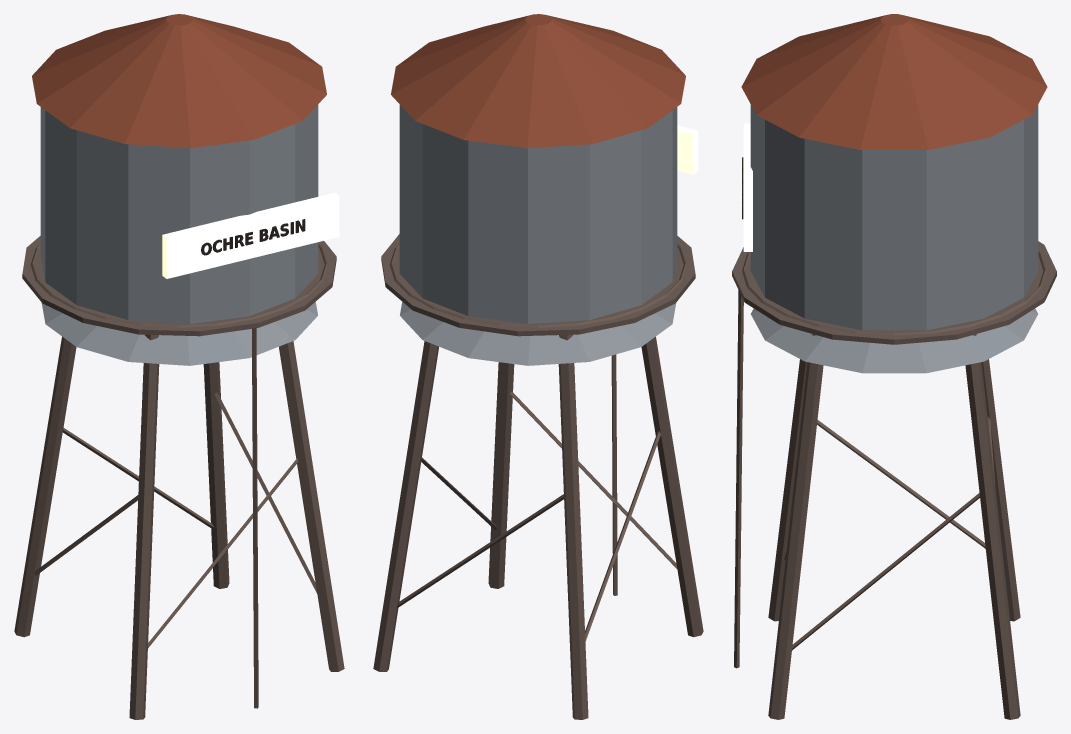
The model's file is water_tower.glb.
3 renders of one model, left to right at view 1: azimuth 30°, elevation 25°; view 2: azimuth 150°, elevation 25°; view 3: azimuth 270°, elevation 25°, orthographic. The views are drawn at different scales.
Parts seen in each view (by area): view 1: water_tower; view 2: water_tower; view 3: water_tower.
Part boxes in pixels (left/top/right/bottom): water_tower: left=14, top=14, right=344, bottom=719; water_tower: left=373, top=14, right=703, bottom=719; water_tower: left=732, top=14, right=1056, bottom=719.
Size of the model in its own units: 7 by 15.43 by 7.
